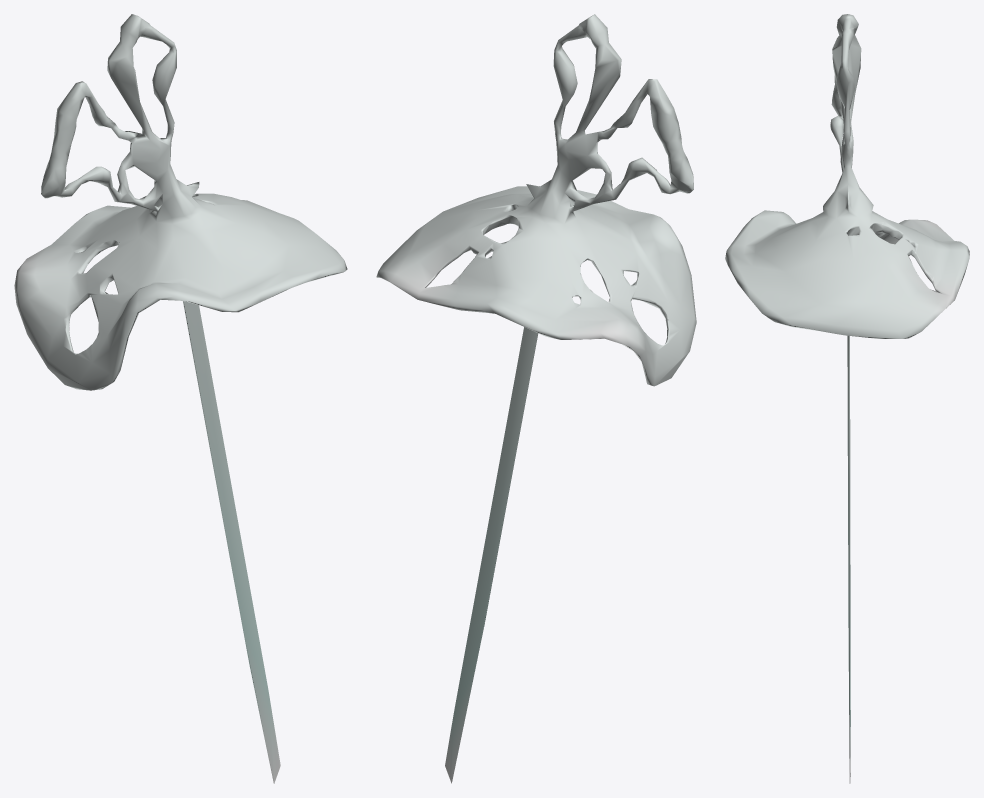
The model's file is Sword.fbx.
The picture shows the model from 3 angles, left to right: view 1: azimuth 30°, elevation 25°; view 2: azimuth 150°, elevation 25°; view 3: azimuth 270°, elevation 25°; orthographic projection. The views are drawn at different scales.
Parts seen in each view (by area): view 1: Sword; view 2: Sword; view 3: Sword.
Boxes of the visible parts, x1,y1,x2,y2 form: Sword: (14,14,347,783); Sword: (376,14,696,783); Sword: (725,14,969,783).
Bounding box in the file's own units: 2.64 × 7.2 × 2.25.
